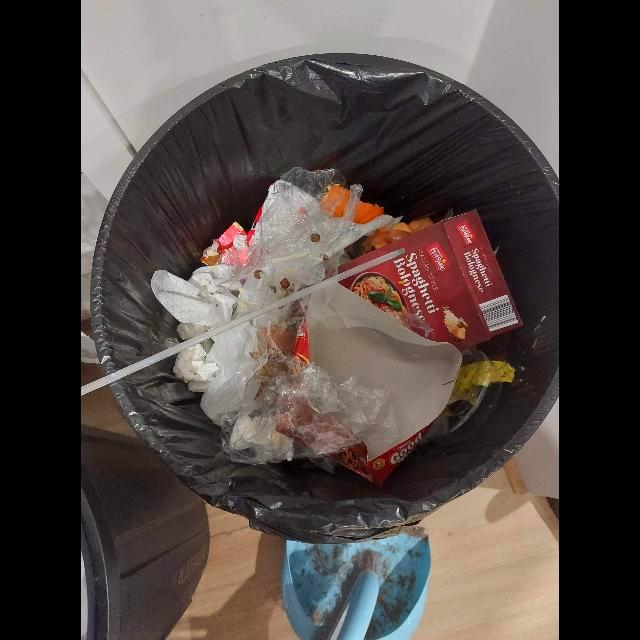cardboard: (292, 282, 463, 485), (338, 209, 524, 351)
paper: (149, 266, 239, 329), (172, 344, 220, 383)
plastic_bag: (218, 352, 400, 466), (213, 166, 363, 284), (190, 322, 266, 425)
